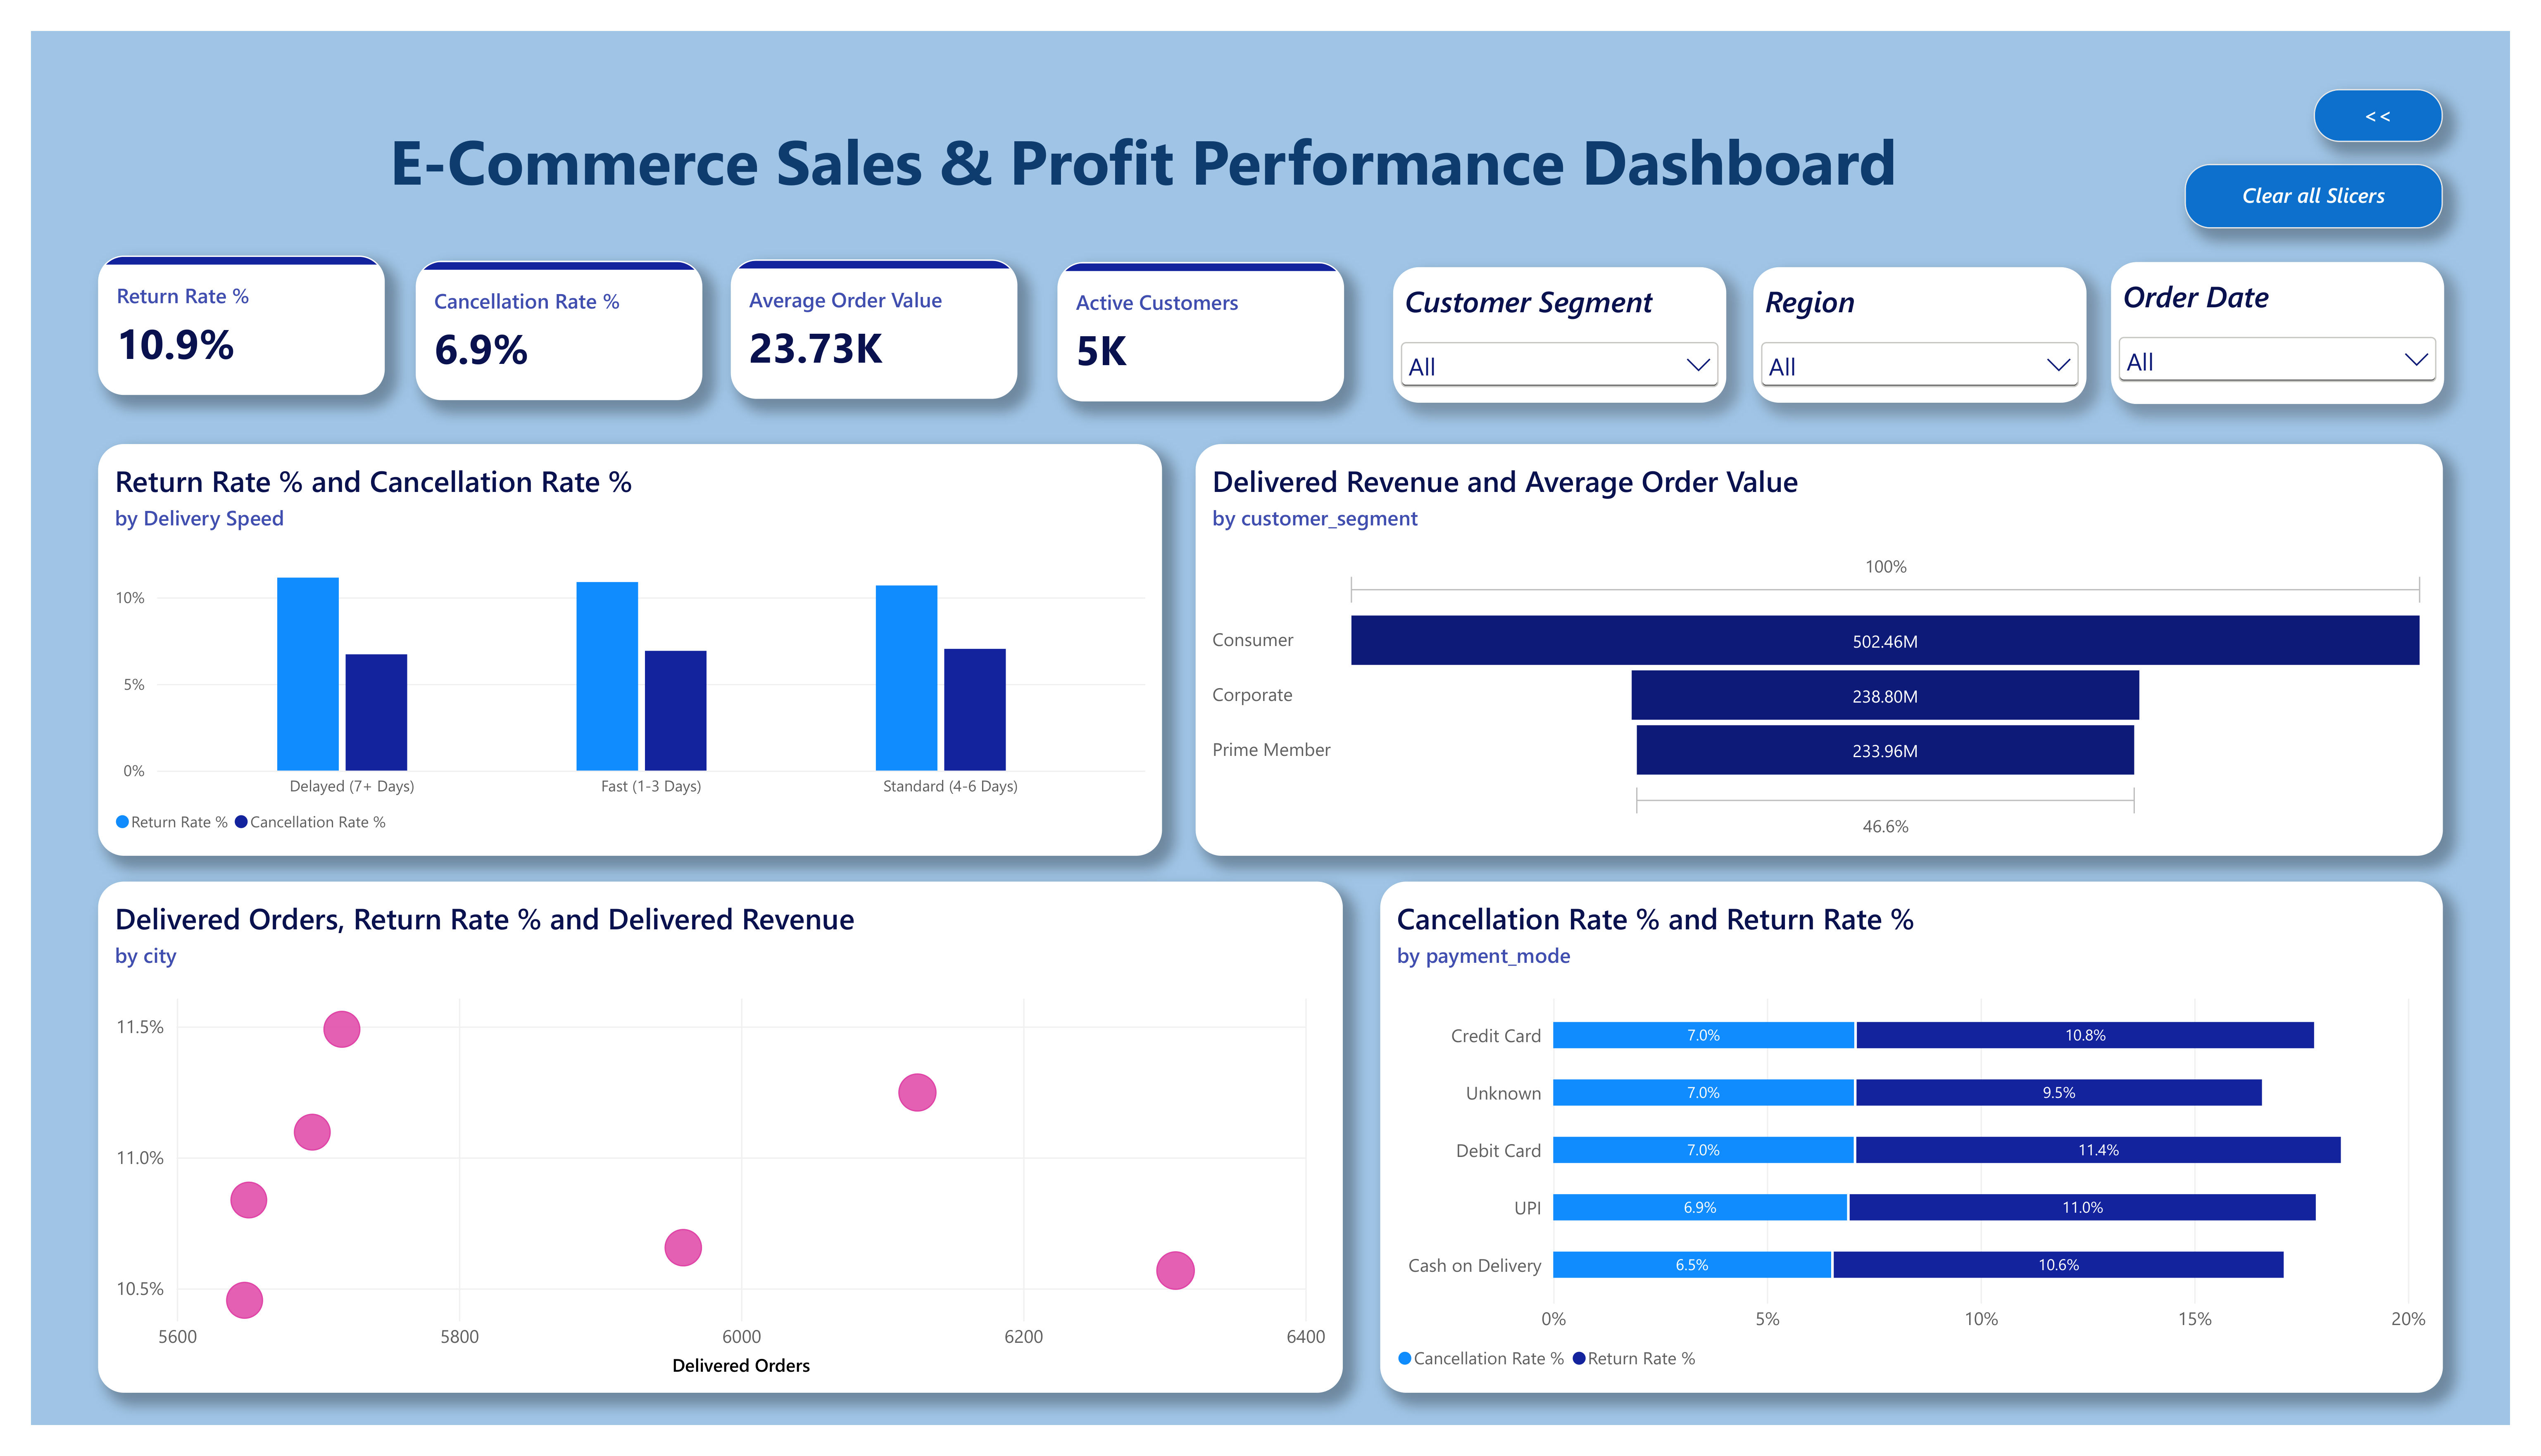

This screenshot's page, from the dashboard's own definition file:
{"tool":"powerbi","page":{"name":"Logistics & Customer Segments","canvas":[1920,1080],"ordinal":2},"visuals":[{"type":"cardVisual","fields":{"Data":["clean_orders.Return Rate %"]},"box":[51.6,174.4,222.7,107.8],"z":0},{"type":"cardVisual","fields":{"Data":["clean_orders.Active Customers"]},"box":[794.8,179.1,222,107.8],"z":1000},{"type":"cardVisual","fields":{"Data":["clean_orders.Average Order Value"]},"box":[541.6,176.7,222,107.8],"z":2000},{"type":"cardVisual","fields":{"Data":["clean_orders.Cancellation Rate %"]},"box":[297.7,178.2,222,107.8],"z":3000},{"type":"clusteredColumnChart","fields":{"Category":["clean_orders.Delivery Speed"],"Y":["clean_orders.Return Rate %","clean_orders.Cancellation Rate %"]},"box":[52.5,319.7,823.1,319.7],"z":4000},{"type":"barChart","fields":{"Category":["clean_orders.payment_mode"],"Y":["clean_orders.Cancellation Rate %","clean_orders.Return Rate %"]},"box":[1045,658.5,823.1,396.1],"z":5000},{"type":"funnel","fields":{"Category":["clean_customers.customer_segment"],"Y":["clean_orders.Delivered Revenue"]},"box":[901.9,319.7,966.3,319.7],"z":6000},{"type":"scatterChart","fields":{"Category":["clean_customers.city"],"Size":["clean_orders.Delivered Revenue"],"X":["clean_orders.Delivered Orders"],"Y":["clean_orders.Return Rate %"]},"box":[52.5,658.5,963.9,396.1],"z":7000},{"type":"textbox","box":[260.1,66.8,1202.5,69.2],"z":8000},{"type":"actionButton","box":[1667.8,102.6,200,50],"z":9000},{"type":"actionButton","box":[1768,45.3,100.2,40.6],"z":10000},{"type":"slicer","fields":{"Values":["clean_customers.customer_segment"]},"box":[1055,182.9,257.9,105.5],"z":11000},{"type":"slicer","fields":{"Values":["clean_customers.region"]},"box":[1334,182.9,257.9,105.5],"z":12000},{"type":"slicer","fields":{"Values":["clean_orders.order_date"]},"box":[1610.7,179.1,257.9,110.2],"z":13000}]}

Visuals, with their boxes on the page's 1920x1080 design canvas (x1, y1, x2, y2). These are canvas units, not pixel positions in the 2541x1456 screenshot, which may show the page scaled, cropped or inside an application window:
cardVisual - clean_orders.Return Rate %: (52, 174, 274, 282)
cardVisual - clean_orders.Active Customers: (795, 179, 1017, 287)
cardVisual - clean_orders.Average Order Value: (542, 177, 764, 284)
cardVisual - clean_orders.Cancellation Rate %: (298, 178, 520, 286)
clusteredColumnChart - clean_orders.Delivery Speed x clean_orders.Return Rate %: (52, 320, 876, 639)
barChart - clean_orders.payment_mode x clean_orders.Cancellation Rate %: (1045, 658, 1868, 1055)
funnel - clean_customers.customer_segment x clean_orders.Delivered Revenue: (902, 320, 1868, 639)
scatterChart - clean_customers.city x clean_orders.Delivered Revenue: (52, 658, 1016, 1055)
textbox: (260, 67, 1463, 136)
actionButton: (1668, 103, 1868, 153)
actionButton: (1768, 45, 1868, 86)
slicer - clean_customers.customer_segment: (1055, 183, 1313, 288)
slicer - clean_customers.region: (1334, 183, 1592, 288)
slicer - clean_orders.order_date: (1611, 179, 1869, 289)
